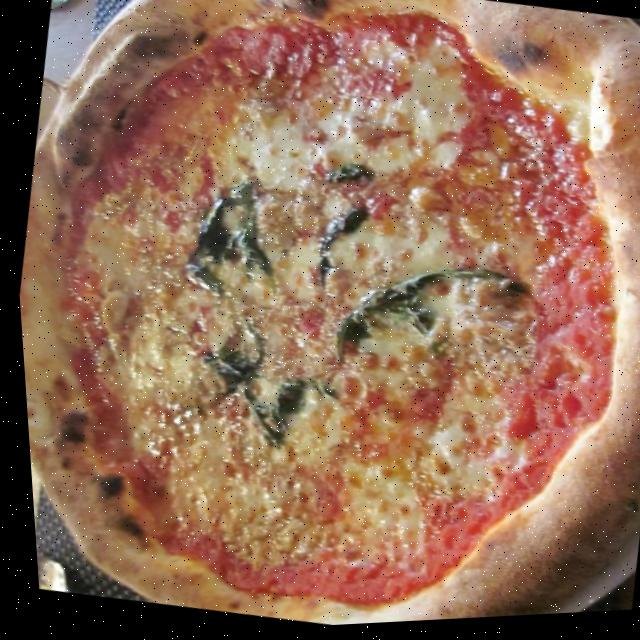basil: (323, 248, 526, 393), (185, 311, 344, 461), (172, 171, 283, 306), (307, 205, 369, 295), (322, 161, 370, 193)
pizza: (0, 0, 640, 640)
